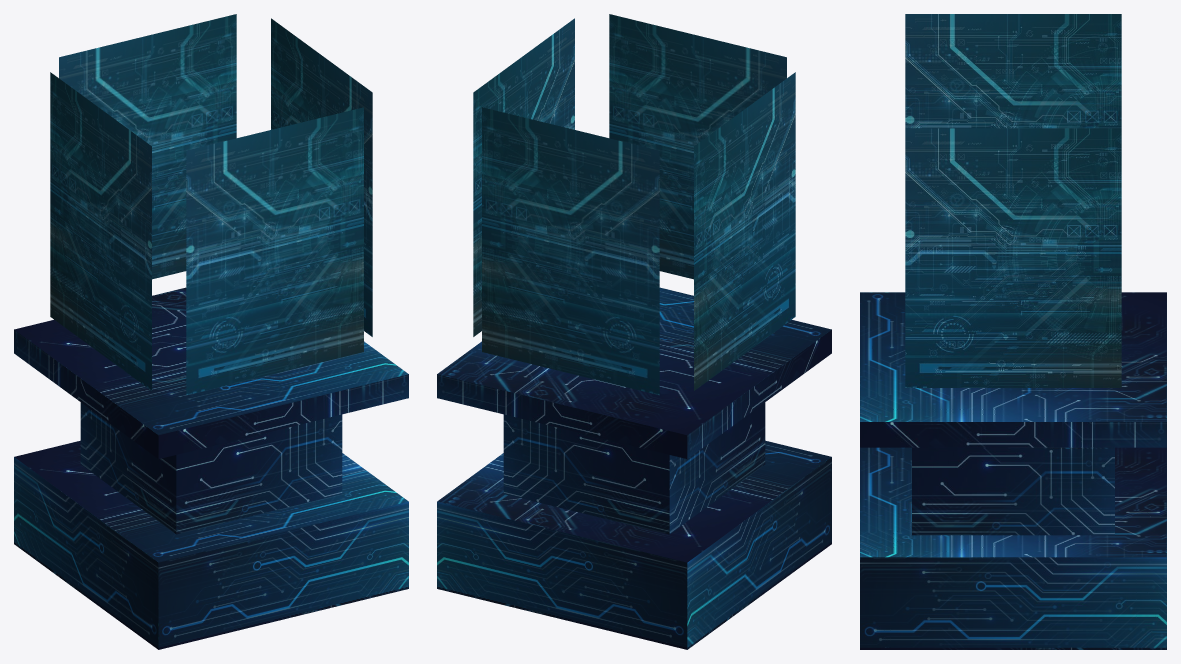
The model's file is Block11.fbx.
3 views of the same model, side by side, from view 1: azimuth 30°, elevation 25°; view 2: azimuth 150°, elevation 25°; view 3: azimuth 270°, elevation 25° (orthographic). The views are drawn at different scales.
Visible parts, largest first — view 1: Cube.010; view 2: Cube.010; view 3: Cube.010.
Boxes of the visible parts, x1,y1,x2,y2 form: Cube.010: (14,14,408,649); Cube.010: (437,14,831,649); Cube.010: (860,14,1166,649).
Size of the model in its own units: 200 by 200 by 370.
